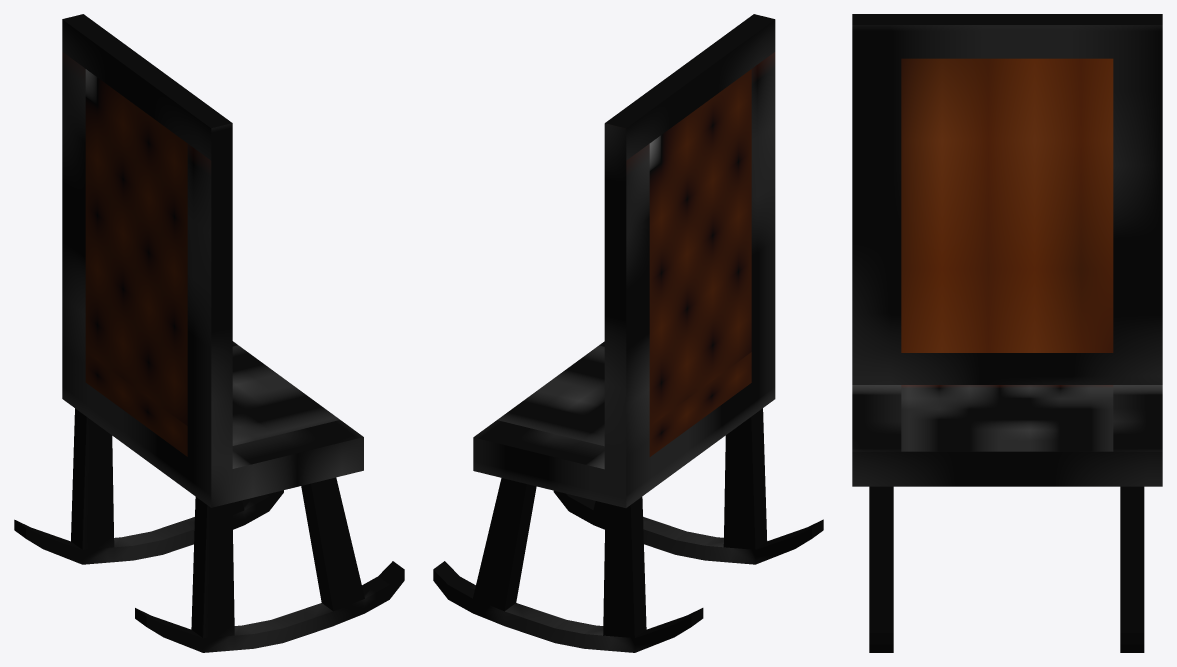
The model's file is chair_873x13.obj.
3 views of the same model, side by side, from view 1: azimuth 30°, elevation 25°; view 2: azimuth 150°, elevation 25°; view 3: azimuth 270°, elevation 25° (orthographic). The views are drawn at different scales.
Visible parts, largest first — view 1: Chair873x13; view 2: Chair873x13; view 3: Chair873x13.
Part boxes in pixels (x1,y1,x2,y2): Chair873x13: (14, 14, 404, 652); Chair873x13: (433, 14, 823, 652); Chair873x13: (852, 14, 1162, 652).
Bounding box in the file's own units: 1 × 2 × 1.
